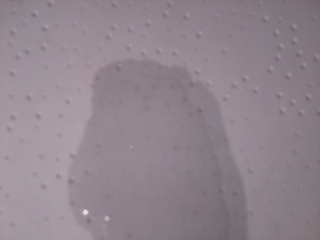Water_detected: (84, 90, 207, 240)
